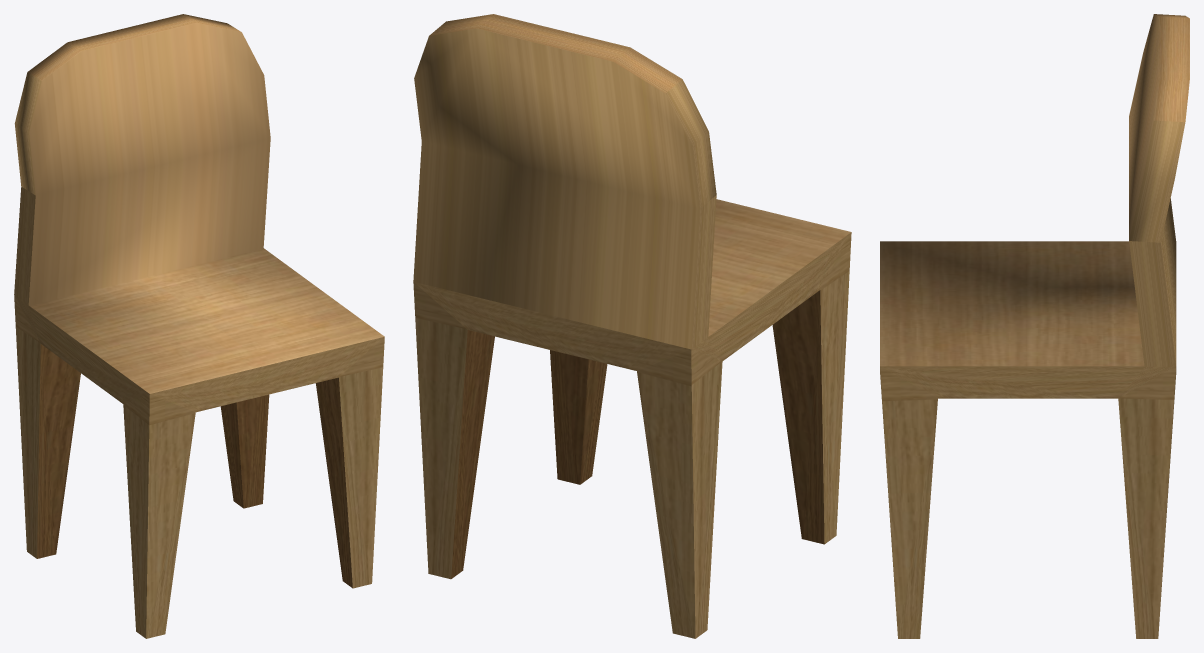
File: chair_01.glb
The picture shows the model from 3 angles, left to right: view 1: azimuth 30°, elevation 25°; view 2: azimuth 150°, elevation 25°; view 3: azimuth 270°, elevation 25°; orthographic projection. The views are drawn at different scales.
Visible parts, largest first — view 1: table; view 2: table; view 3: table.
Boxes of the visible parts, x1=… form: table: x1=14, y1=14, x2=384, y2=638; table: x1=413, y1=14, x2=851, y2=638; table: x1=880, y1=14, x2=1189, y2=638.
Size of the model in its own units: 0.4214 by 0.8344 by 0.4408.
Materials: 1 (1 with a texture image).
